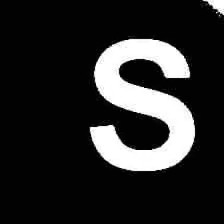LTR_S: (84, 28, 200, 177)
